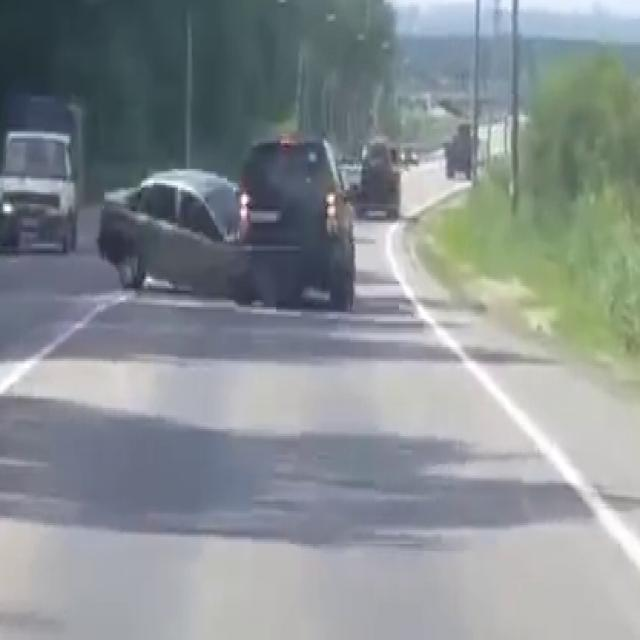accident: (142, 124, 385, 310)
